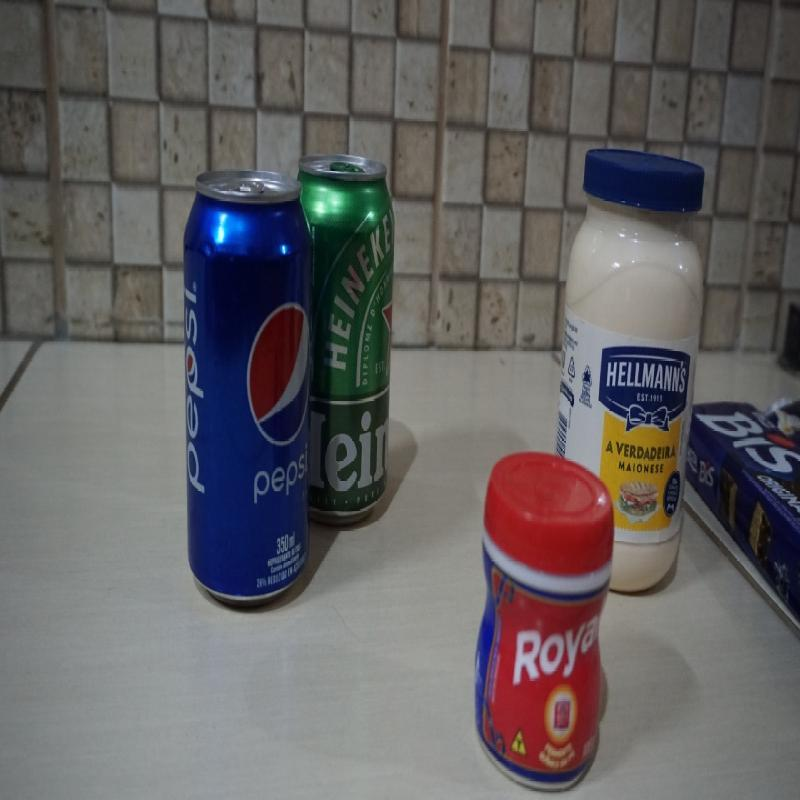Beer can: (296, 154, 396, 530)
Mayonnaise: (551, 147, 706, 600)
Soda can: (180, 167, 318, 615)
Yeast: (471, 451, 616, 796)
